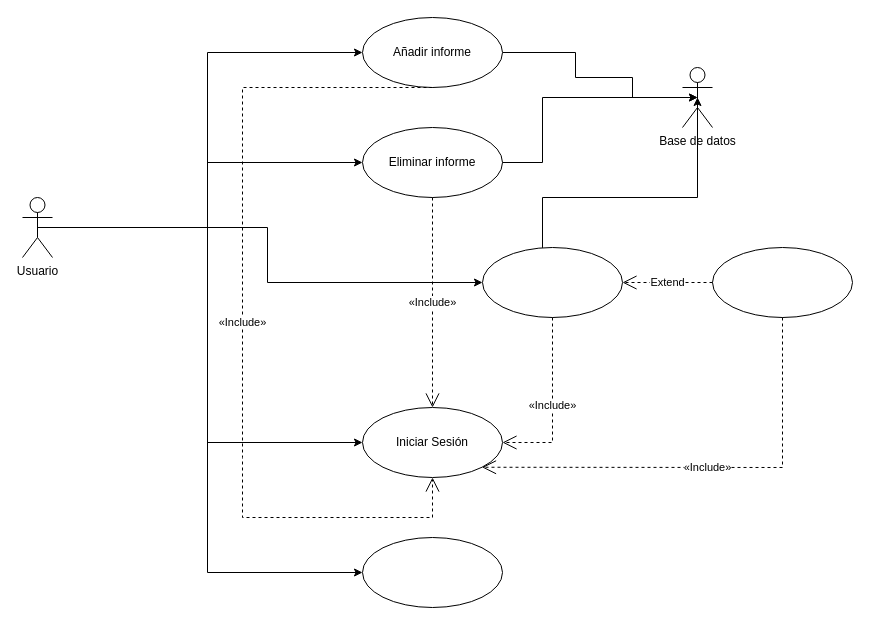
This 870x625 diagram has some shape labels left out. Each missing label, with the box of its shape:
Consultar informe: (482, 246, 622, 318)
Modificar informe: (712, 246, 852, 318)
Reproducir video: (362, 536, 502, 608)
